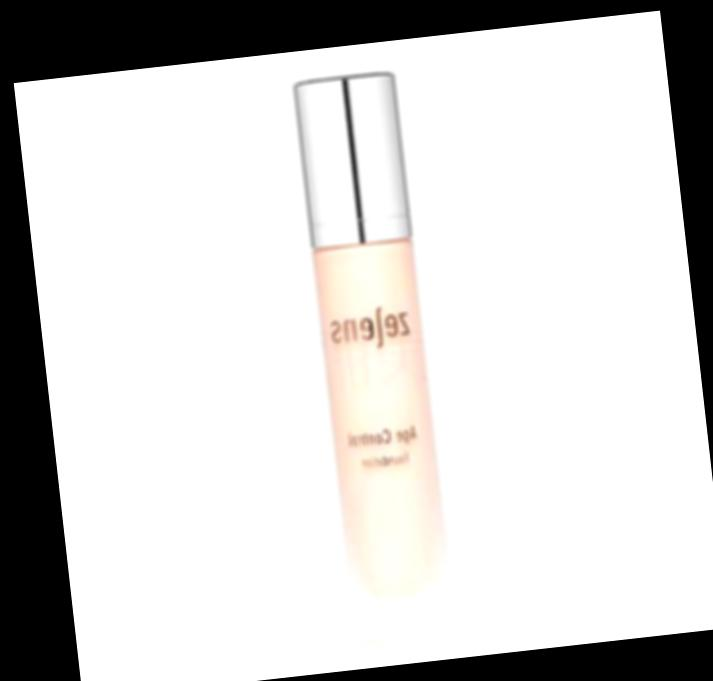cosmetic: (288, 68, 458, 648)
